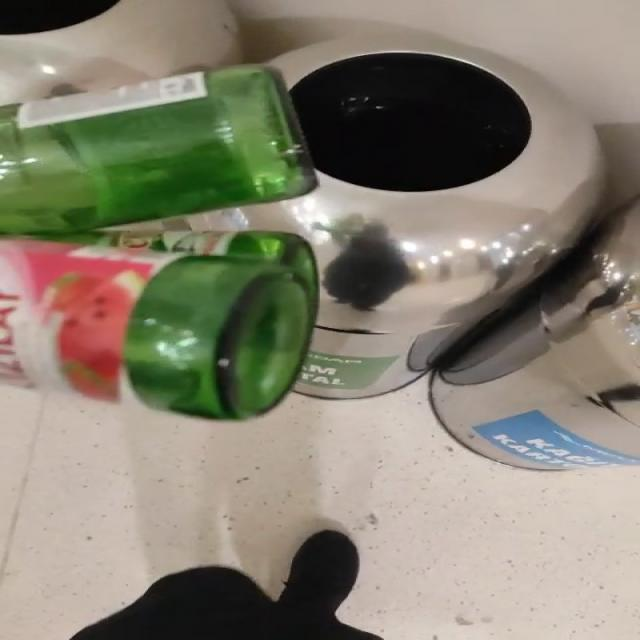bin: (132, 32, 605, 399)
glass: (0, 65, 319, 420)
